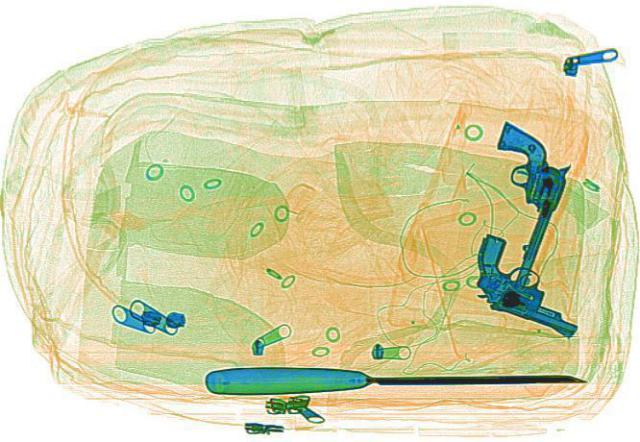Gun: (430, 230, 622, 337), (458, 118, 580, 284)
Knife: (205, 360, 588, 392)
